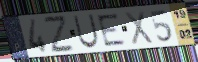4: (28, 17, 47, 54)
5: (148, 9, 174, 44)
E: (95, 12, 128, 48)
U: (72, 13, 101, 50)
X: (123, 9, 155, 46)
Z: (41, 15, 76, 54)
